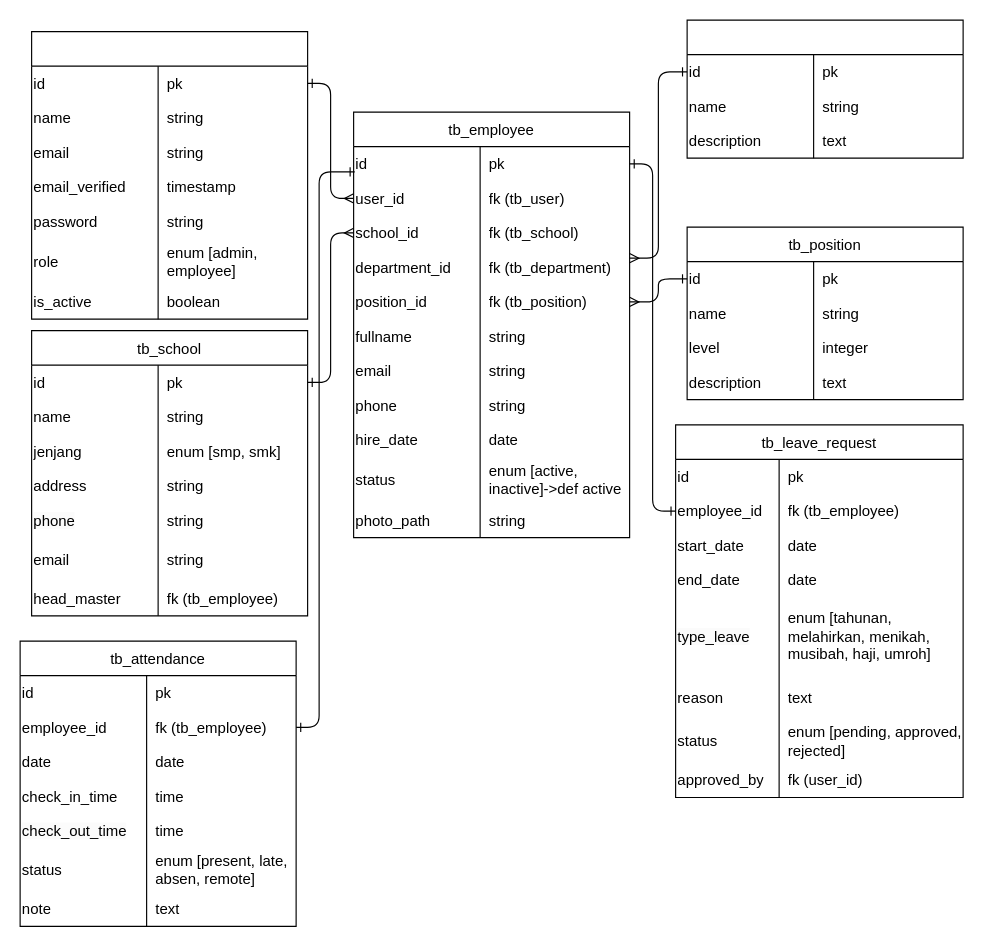
Image size: 983x946. Some labels were removed from this diagram. The shapes that lost their labels are listed below. From the top down, each one's box as (x1, y1, x2, y2) in pixels, then its label:
(686, 19, 963, 158): tb_department
(30, 30, 308, 319): tb_user
